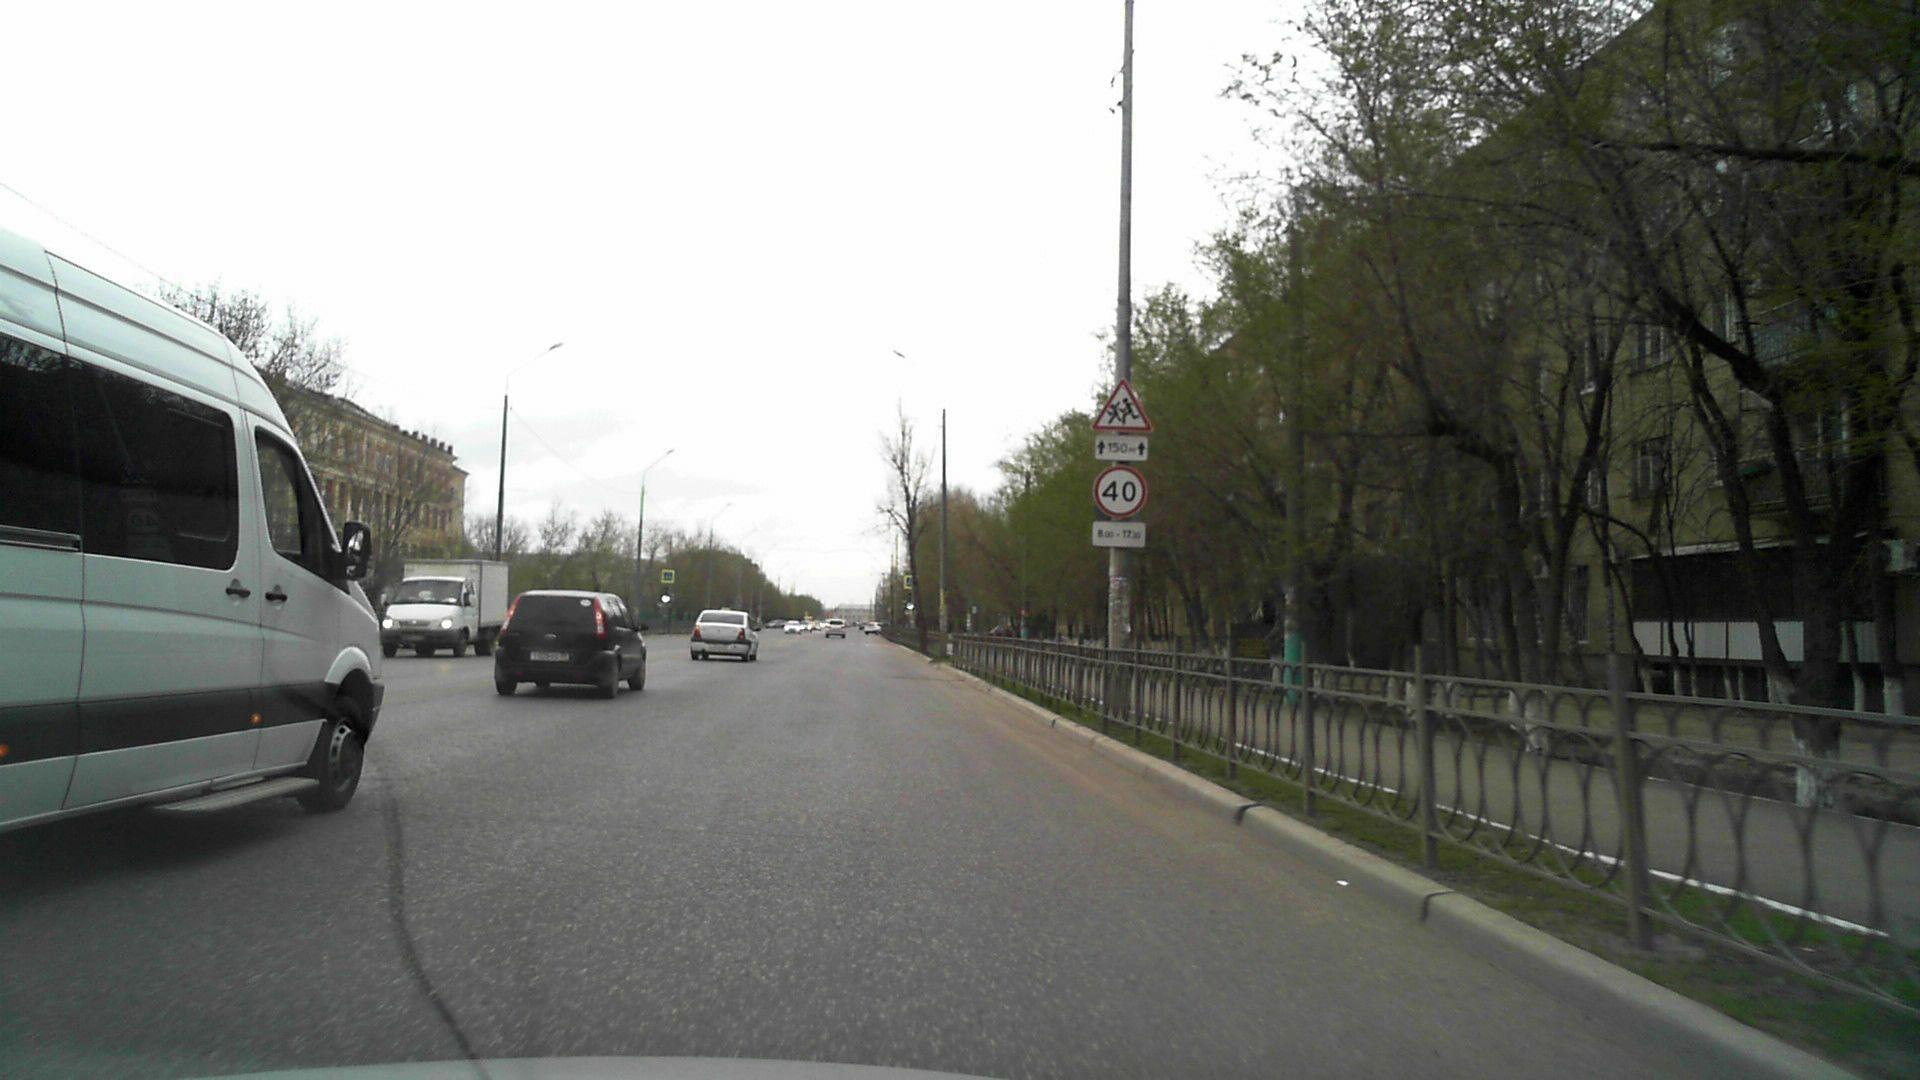1_23: (1091, 377, 1154, 430)
3_24: (1092, 465, 1146, 516)
5_19_1: (903, 575, 916, 592)
5_19_2: (663, 570, 674, 583)
8_2_1: (1095, 434, 1151, 463)
8_5_4: (1093, 520, 1147, 550)
